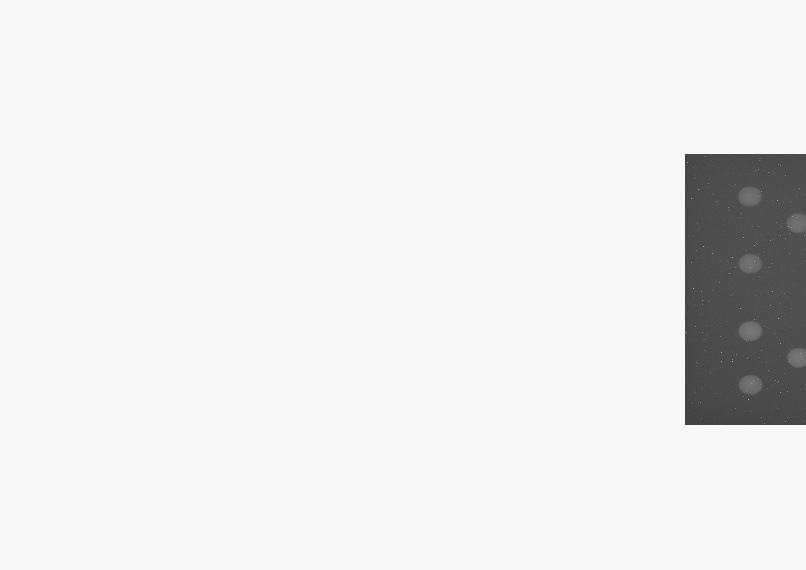cluster: (737, 183, 806, 275), (738, 319, 806, 396)
